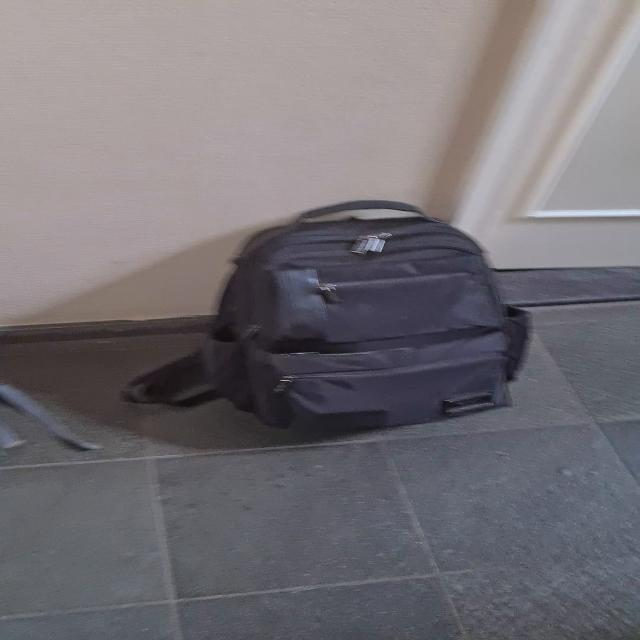backpack: (200, 195, 557, 438)
